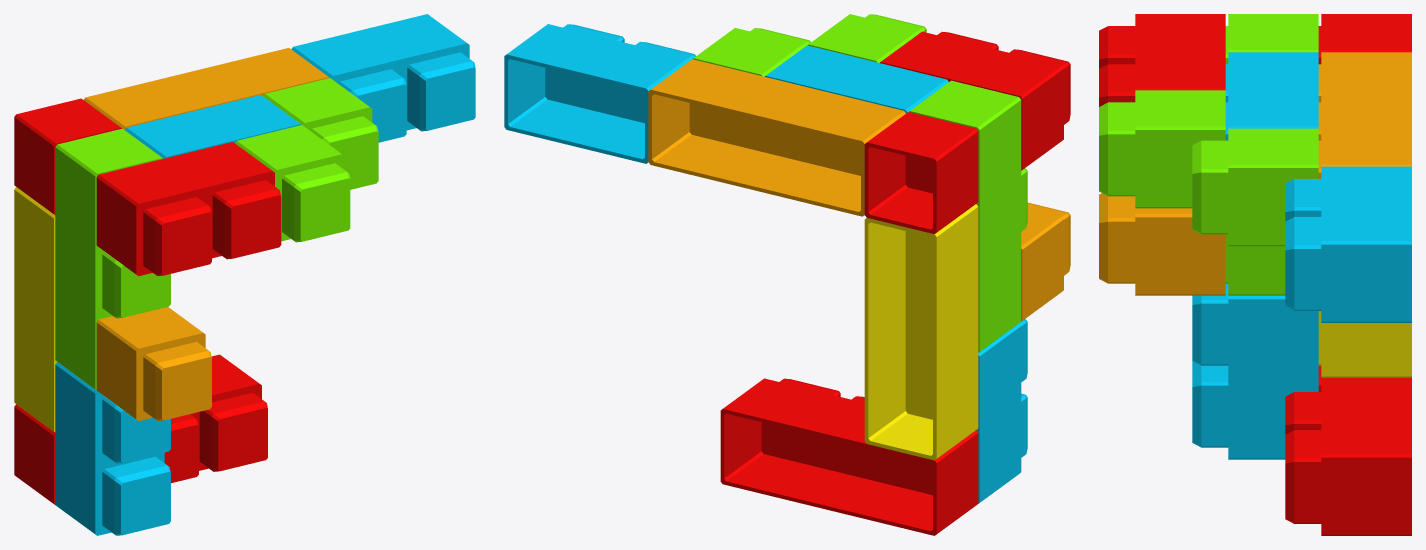
Rendered from sweethome3d-lucapresidente-blocks.glb.
3 views of the same model, side by side, from view 1: azimuth 30°, elevation 25°; view 2: azimuth 150°, elevation 25°; view 3: azimuth 270°, elevation 25° (orthographic). The views are drawn at different scales.
Visible parts, largest first — view 1: Line043_17, Line045_21, Line047_32, Line041_7, Line050_43, Line042_10, Line046_28, Line040_3, Line051_46, Rectangle031_31, Rectangle014_9, Rectangle042_47 (+24 smaller); view 2: Line045_21, Line041_7, Line049_37, Line042_10, Line043_17, Line040_3, Line047_32, Rectangle009_8, Rectangle038_41, Rectangle026_25, Line050_43, Line046_28 (+11 smaller); view 3: Line049_37, Line042_10, Line050_43, Line041_7, Line044_18, Line048_35, Line051_46, Line046_28, Line047_32, Line043_17, Line045_21, Rectangle033_34 (+23 smaller).
Part boxes in pixels (x1,y1,x2,y2): Line043_17: [55, 128, 157, 386]; Line045_21: [14, 187, 51, 428]; Line047_32: [96, 142, 268, 271]; Line041_7: [84, 48, 324, 125]; Line050_43: [55, 362, 92, 531]; Line042_10: [291, 14, 462, 75]; Line046_28: [125, 95, 296, 156]; Line040_3: [14, 98, 116, 211]; Line051_46: [96, 307, 198, 416]; Rectangle031_31: [212, 180, 281, 259]; Rectangle014_9: [407, 52, 475, 131]; Rectangle042_47: [143, 342, 211, 420]; Line045_21: [864, 207, 974, 460]; Line041_7: [648, 62, 901, 216]; Line049_37: [720, 381, 974, 535]; Line042_10: [504, 27, 685, 163]; Line043_17: [909, 83, 1016, 352]; Line040_3: [864, 115, 974, 234]; Line047_32: [880, 34, 1059, 170]; Rectangle009_8: [688, 59, 905, 175]; Rectangle038_41: [760, 378, 978, 507]; Rectangle026_25: [905, 204, 978, 431]; Line050_43: [976, 326, 1016, 503]; Line046_28: [764, 48, 944, 113]; Line049_37: [1330, 377, 1411, 535]; Line042_10: [1330, 166, 1411, 322]; Line050_43: [1237, 295, 1318, 459]; Line041_7: [1330, 52, 1411, 166]; Line044_18: [1237, 128, 1318, 246]; Line048_35: [1144, 90, 1225, 208]; Line051_46: [1144, 208, 1225, 295]; Line046_28: [1237, 52, 1318, 128]; Line047_32: [1144, 14, 1225, 90]; Line043_17: [1237, 14, 1318, 295]; Line045_21: [1330, 323, 1411, 377]; Rectangle033_34: [1099, 102, 1135, 196].
Bounding box in the file's own units: 60 × 50 × 34.6.
